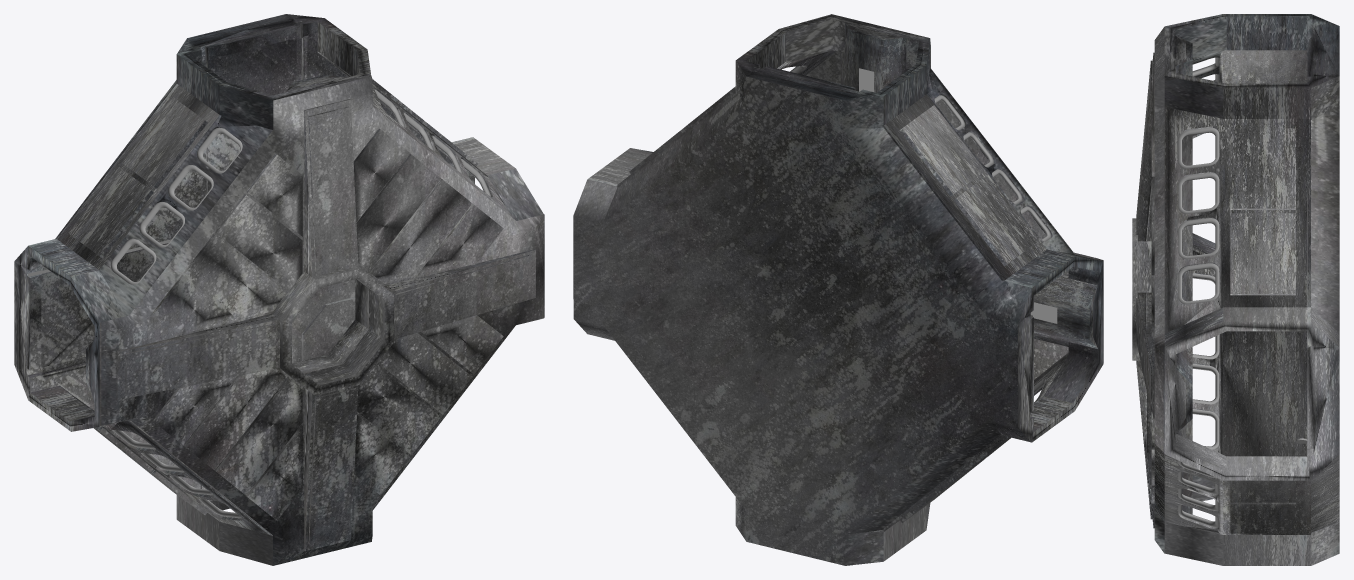
Rendered from Room_LOD0.obj.
3 renders of one model, left to right at view 1: azimuth 30°, elevation 25°; view 2: azimuth 150°, elevation 25°; view 3: azimuth 270°, elevation 25°, orthographic. The views are drawn at different scales.
Visible parts, largest first — view 1: Line720, Box1320, Tube107; view 2: Box1320, Line663, Line713, Line720; view 3: Box1320, Line720, Line713, Line722, Tube107, Rectangle104, Rectangle105, Rectangle103, Rectangle106, Line664, Rectangle112, Rectangle111 (+3 smaller).
Boxes of the visible parts, bbox=[...] form: Line720: bbox=[99, 76, 544, 565]; Box1320: bbox=[14, 14, 543, 565]; Tube107: bbox=[292, 279, 368, 373]; Box1320: bbox=[573, 14, 1103, 565]; Line663: bbox=[1034, 270, 1097, 348]; Line713: bbox=[840, 23, 908, 92]; Line720: bbox=[806, 14, 1103, 379]; Box1320: bbox=[1164, 14, 1339, 565]; Line720: bbox=[1132, 27, 1164, 553]; Line713: bbox=[1176, 36, 1192, 235]; Line722: bbox=[1175, 347, 1192, 434]; Tube107: bbox=[1182, 226, 1192, 301]; Rectangle104: bbox=[1178, 173, 1219, 213]; Rectangle105: bbox=[1178, 218, 1219, 258]; Rectangle103: bbox=[1178, 127, 1219, 168]; Rectangle106: bbox=[1178, 263, 1219, 304]; Line664: bbox=[1177, 419, 1192, 514]; Rectangle112: bbox=[1192, 363, 1219, 404]; Rectangle111: bbox=[1192, 409, 1219, 449].
Bounding box in the file's own units: 118 × 118 × 46.51.
Materials: 4 (1 with a texture image).
